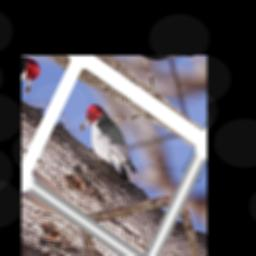Woodpecker: (70, 100, 152, 187)
